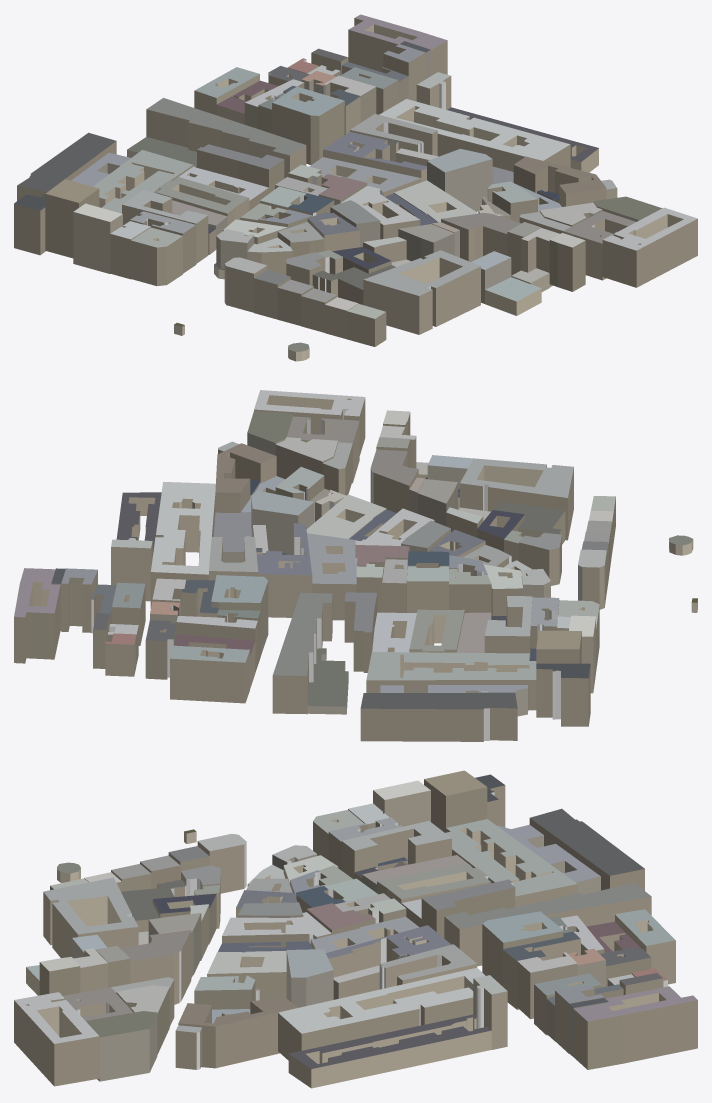
3 renders of one model, top to bottom at view 1: azimuth 30°, elevation 25°; view 2: azimuth 150°, elevation 25°; view 3: azimuth 270°, elevation 25°, orthographic. The views are drawn at different scales.
Parts seen in each view (by area): view 1: tuile; view 2: tuile; view 3: tuile.
Boxes of the visible parts, box(x1,y1,x2,y2) form: tuile: box(14, 14, 697, 361); tuile: box(14, 390, 697, 741); tuile: box(14, 770, 697, 1088).
Bounding box in the file's own units: 281 × 34.6 × 287.
